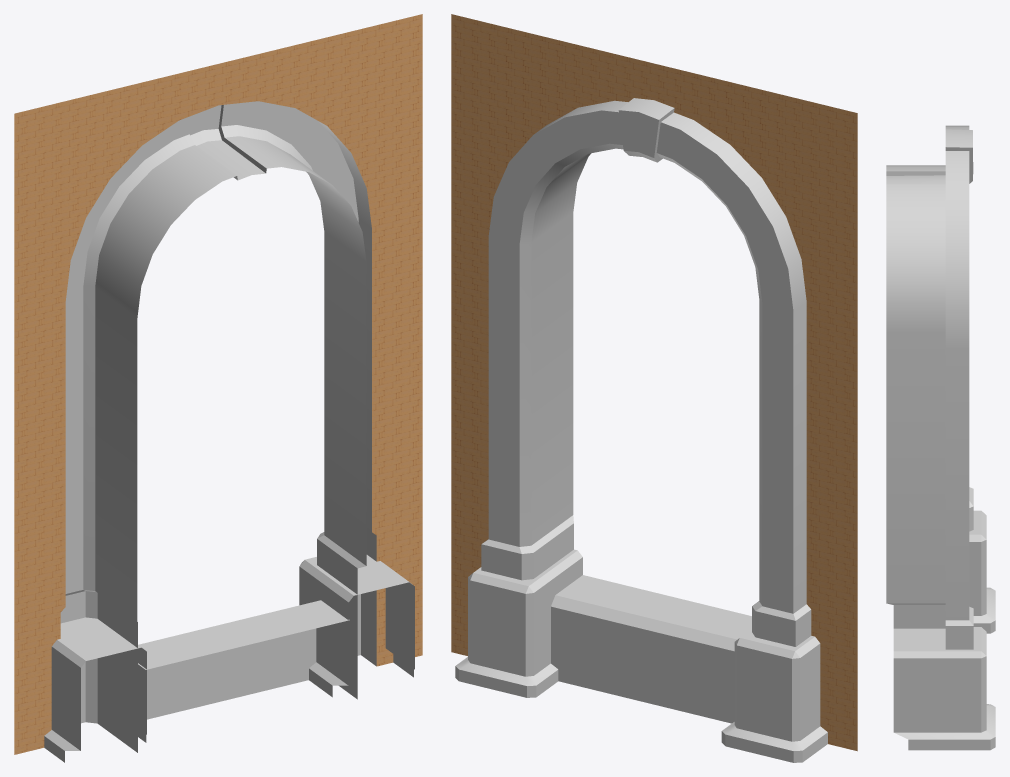
Rendered from Arc_Wall_12x18.fbx.
3 views of the same model, side by side, from view 1: azimuth 30°, elevation 25°; view 2: azimuth 150°, elevation 25°; view 3: azimuth 270°, elevation 25° (orthographic). The views are drawn at different scales.
Parts seen in each view (by area): view 1: Arc_Wall_12x18; view 2: Arc_Wall_12x18; view 3: Arc_Wall_12x18.
Part boxes in pixels (bbox=[...]): Arc_Wall_12x18: bbox=[14, 14, 422, 762]; Arc_Wall_12x18: bbox=[451, 14, 857, 762]; Arc_Wall_12x18: bbox=[886, 125, 995, 750].
Bounding box in the file's own units: 1200 × 1800 × 312.
